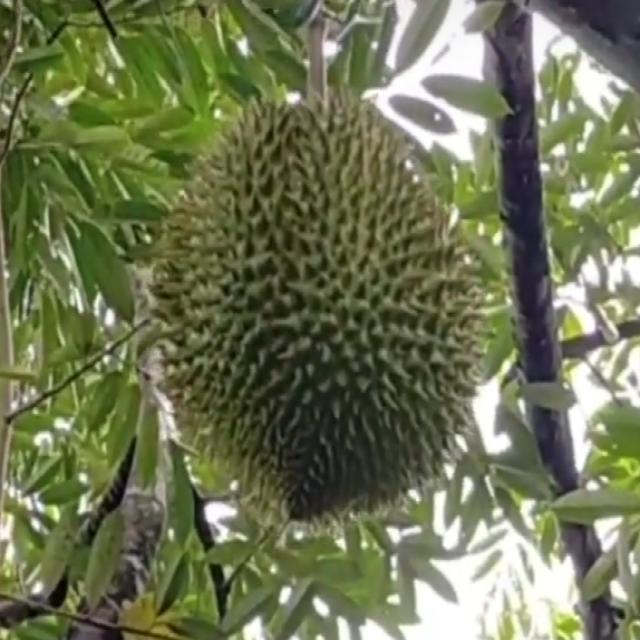immature: (141, 85, 490, 532)
